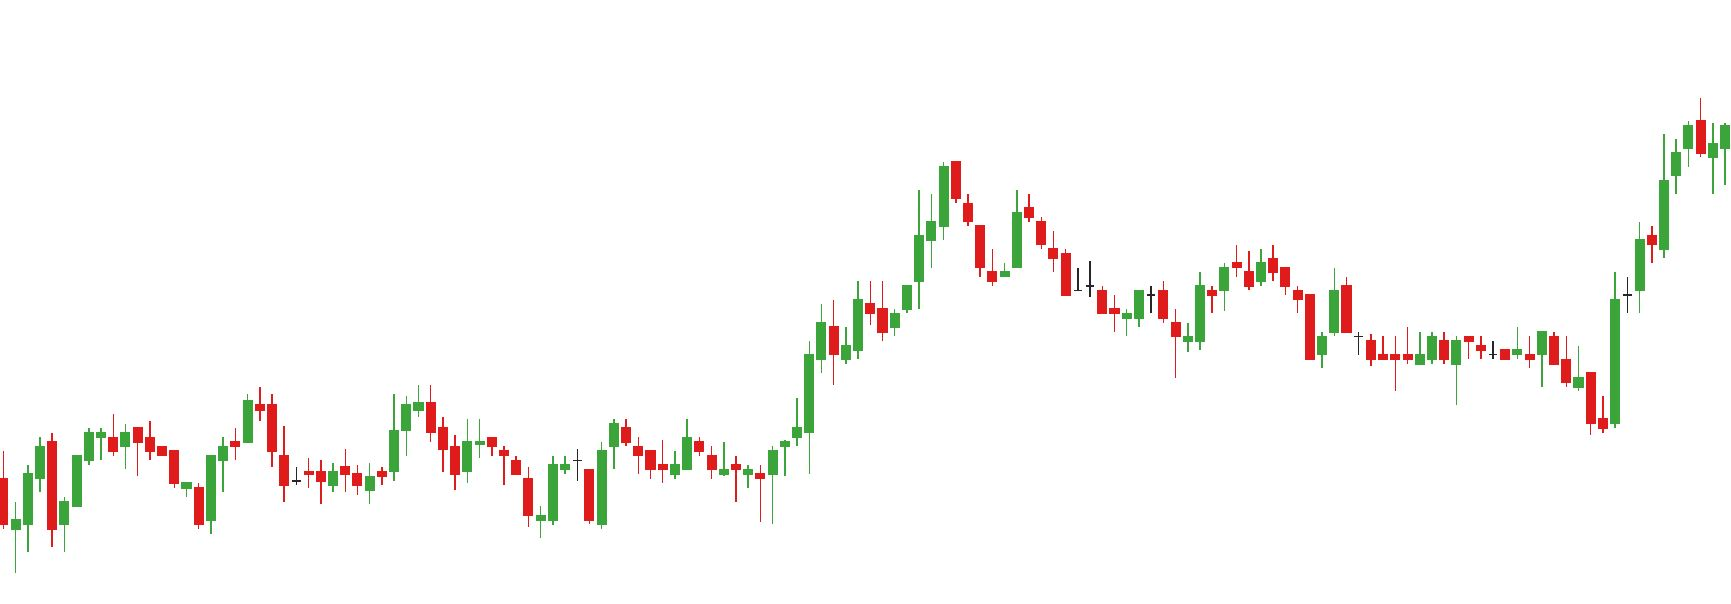buy: (446, 453, 560, 538), (658, 451, 780, 526)
